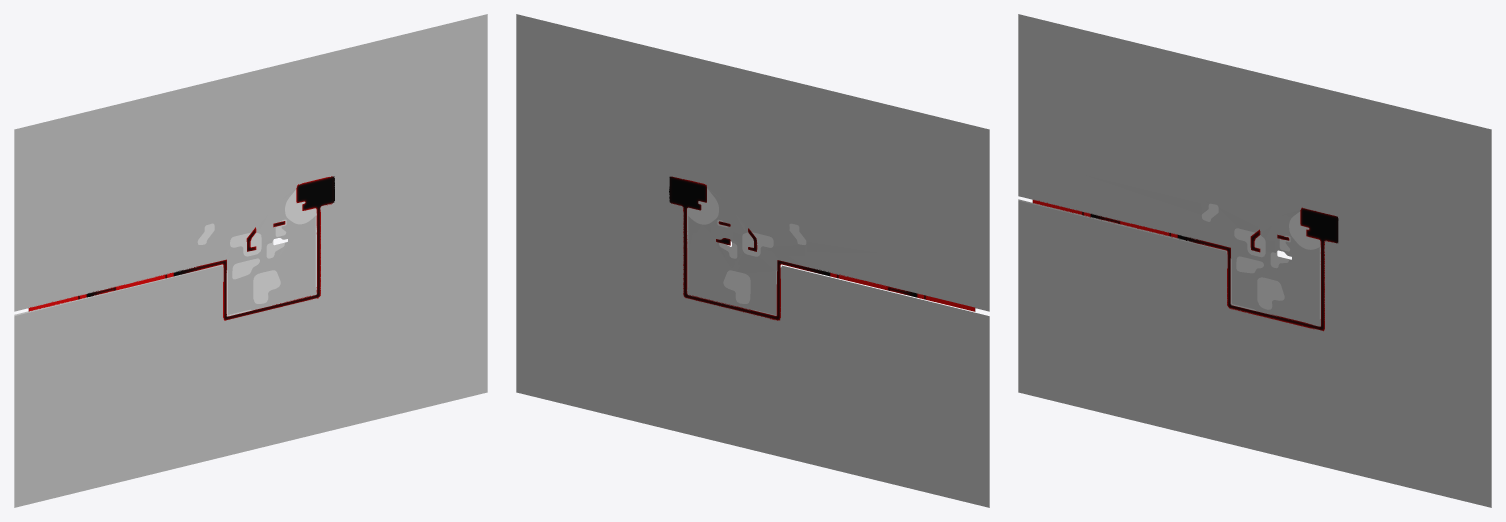
The model's file is Beijing.glb.
The picture shows the model from 3 angles, left to right: view 1: azimuth 30°, elevation 25°; view 2: azimuth 150°, elevation 25°; view 3: azimuth 330°, elevation 25°; orthographic projection.
Visible parts, largest first — view 1: Beijing_Land, Beijing_Water, Beijing_Grass, beijing_Beach; view 2: Beijing_Land, Beijing_Water, Beijing_Grass; view 3: Beijing_Land, Beijing_Water, Beijing_Grass, beijing_Beach.
Part boxes in pixels (x1,y1,x2,y2): Beijing_Land: [14, 14, 487, 507]; Beijing_Water: [28, 176, 334, 320]; Beijing_Grass: [197, 189, 316, 303]; beijing_Beach: [14, 214, 316, 316]; Beijing_Land: [516, 14, 989, 507]; Beijing_Water: [669, 176, 975, 320]; Beijing_Grass: [687, 188, 806, 303]; Beijing_Land: [1018, 14, 1491, 507]; Beijing_Water: [1032, 200, 1338, 331]; Beijing_Grass: [1201, 203, 1320, 309]; beijing_Beach: [1018, 199, 1320, 320].
Size of the model in its own units: 324 by 247 by 0.0305.
Materials: 4 (1 with a texture image).
